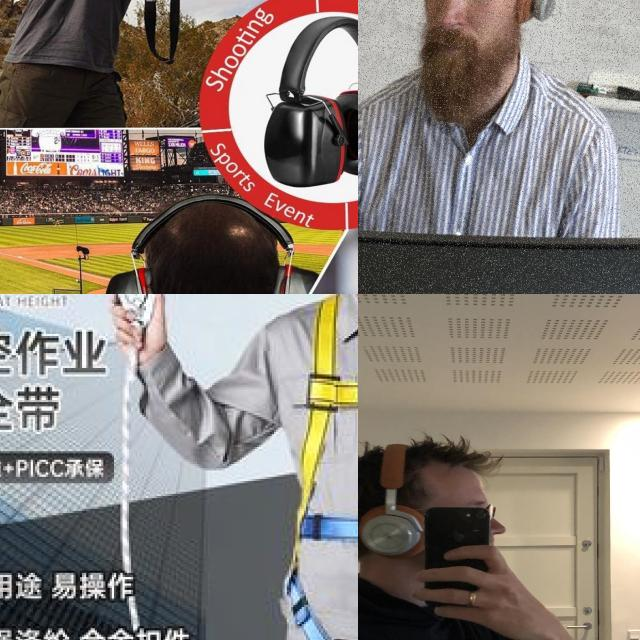Ear-protection: (385, 0, 598, 126), (88, 188, 338, 294), (358, 438, 463, 563)
Harness: (282, 294, 358, 640), (97, 294, 172, 335)
head_nohelmet: (358, 423, 496, 506)
person: (358, 303, 640, 640), (12, 0, 205, 122)
